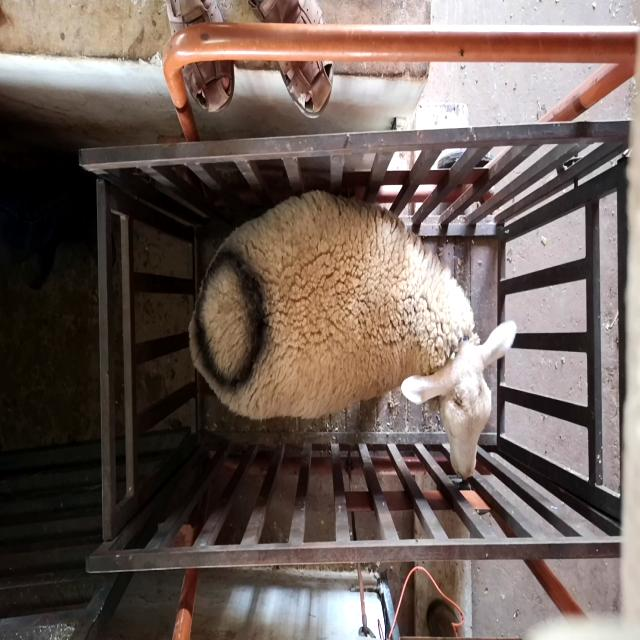sheep: (188, 190, 516, 480)
